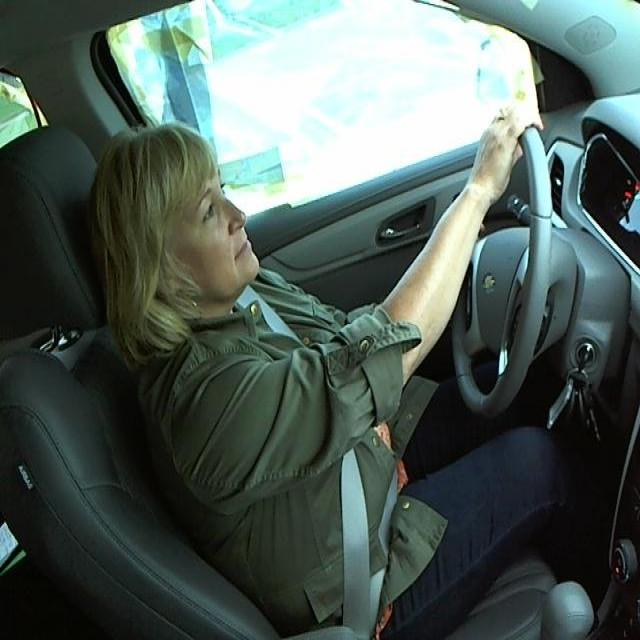without_using_phone: (80, 82, 309, 396)
